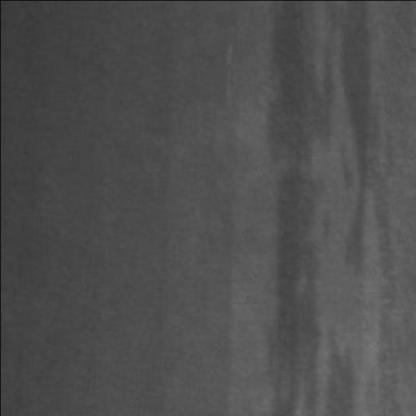inclusion: (264, 0, 370, 410)
